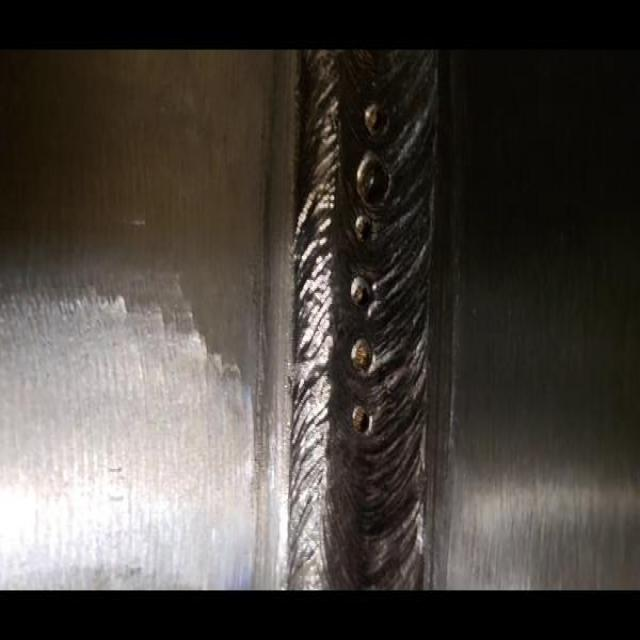Welding Line: (301, 56, 425, 582)
porosity: (350, 103, 391, 438)
